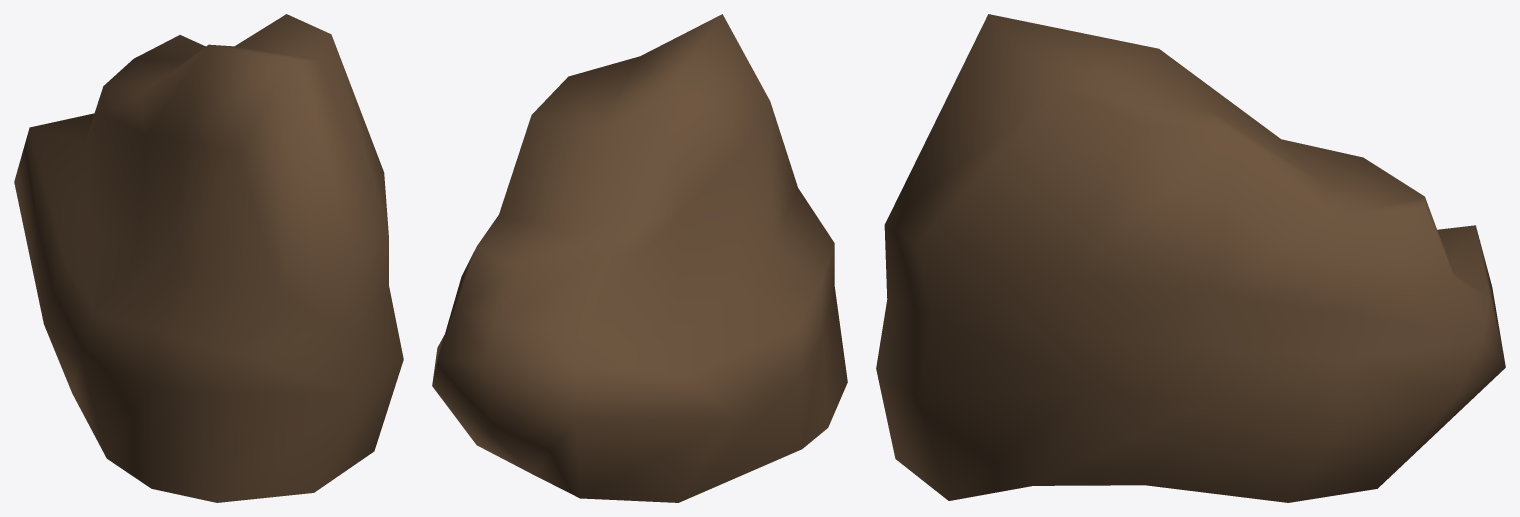
File: shituo5.FBX
The picture shows the model from 3 angles, left to right: view 1: azimuth 30°, elevation 25°; view 2: azimuth 150°, elevation 25°; view 3: azimuth 270°, elevation 25°; orthographic projection. The views are drawn at different scales.
Visible parts, largest first — view 1: 对象010; view 2: 对象010; view 3: 对象010.
Boxes of the visible parts, x1,y1,x2,y2 form: 对象010: (14, 14, 403, 502); 对象010: (432, 14, 847, 502); 对象010: (876, 14, 1505, 502).
Size of the model in its own units: 0.8793 by 1.12 by 1.35.
